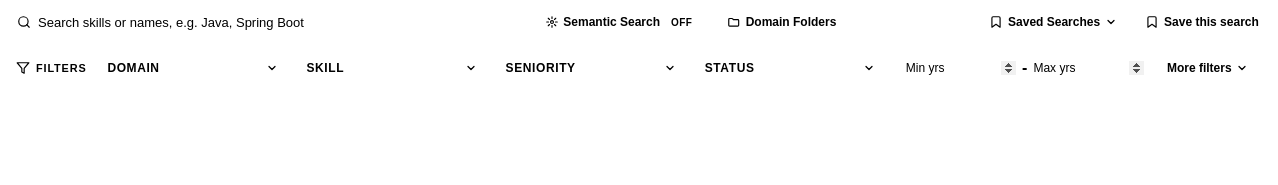
it: ResumeFilters controls › sends the chosen domain
Click the button "DOMAIN". click: (193, 68)
box: x1=96 y1=53 x2=289 y2=83
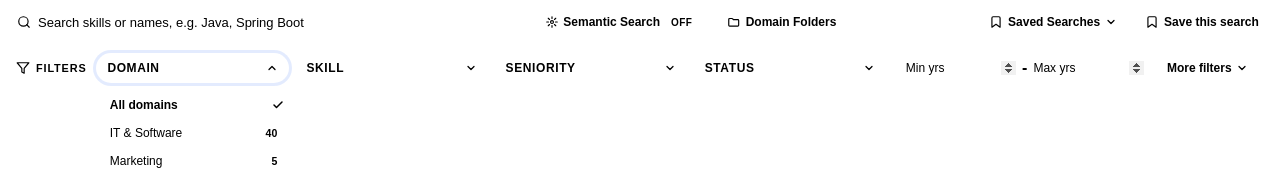
Click the option "IT & Software 40". click: (197, 133)
box: x1=100 y1=119 x2=293 y2=147
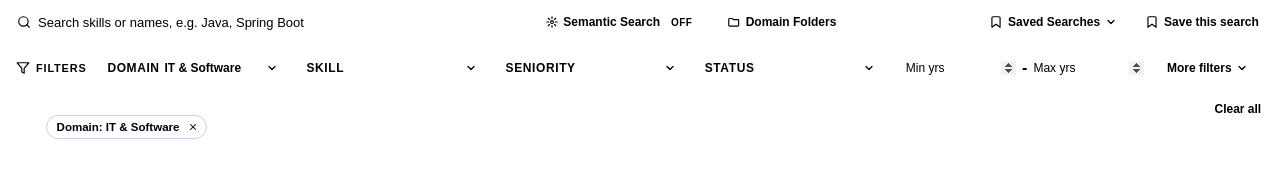
Expected: the button "DOMAIN IT & Software" is shown, x1=96 y1=53 x2=289 y2=83
